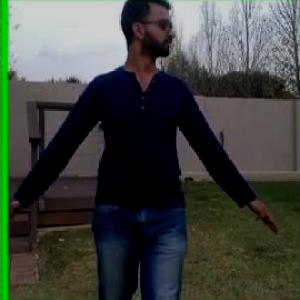land: (1, 0, 271, 299)
